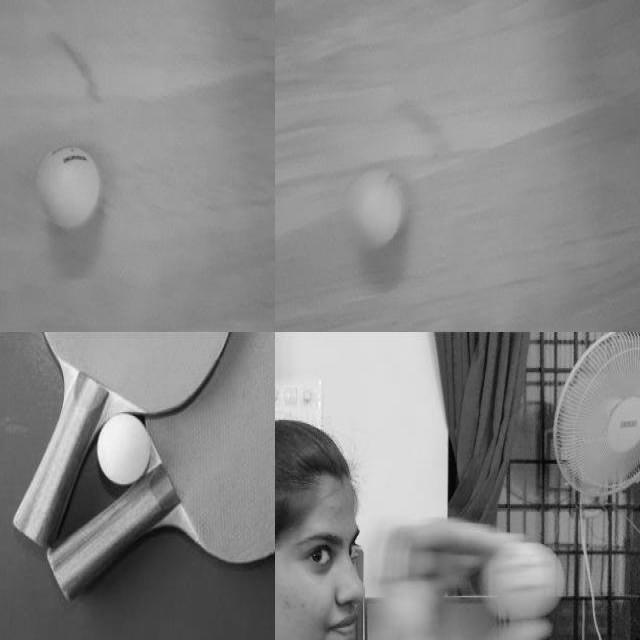ping-pong-ball: (483, 540, 561, 620), (35, 144, 99, 227), (346, 170, 404, 246), (96, 414, 150, 484)
